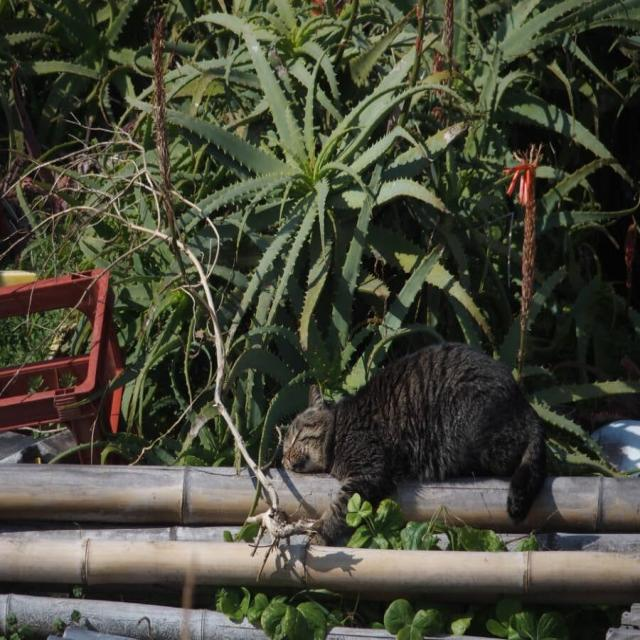cat: (282, 343, 546, 542)
